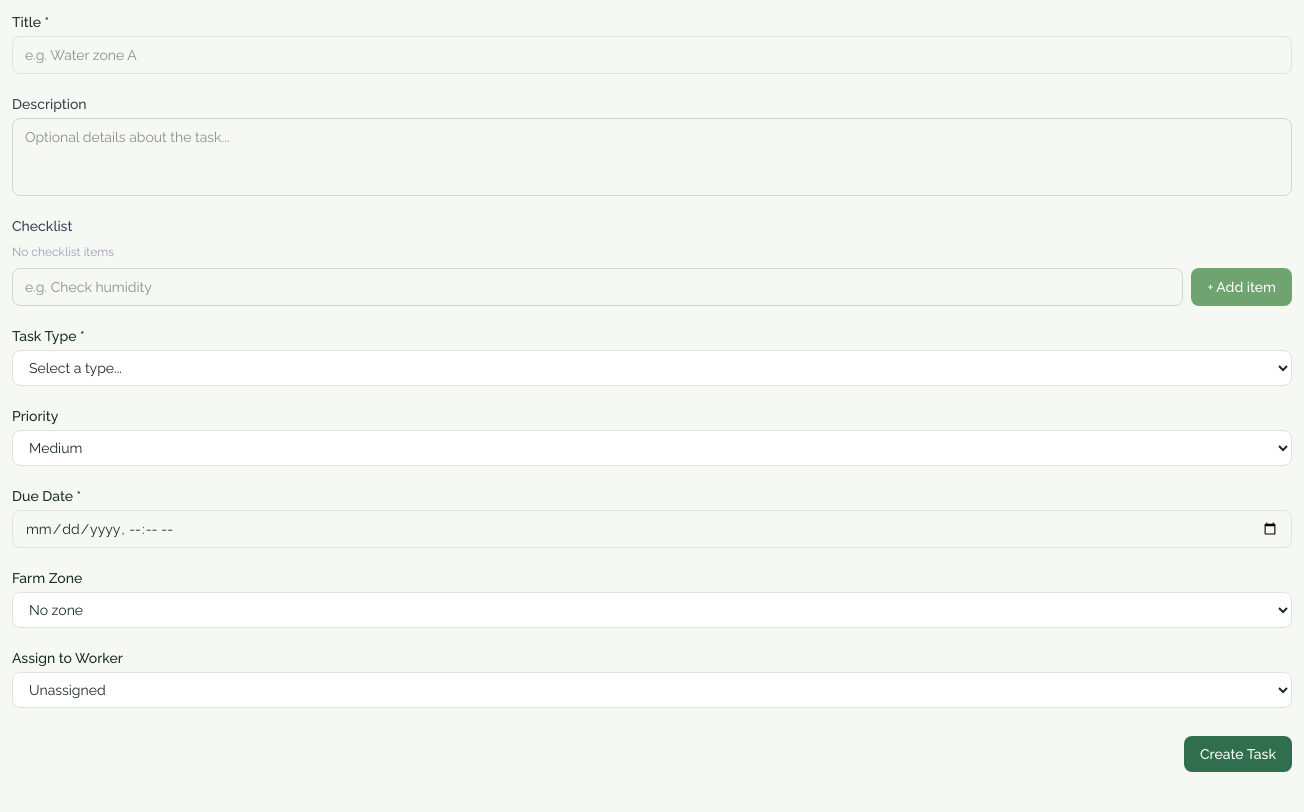
Test: TaskForm – due date (BSPMT7-449) › rejects a due date in the past
The width and height of the screenshot is (1304, 812).
Type "My task" into the field labelled "Title *" at (652, 55), box [12,36,1292,74]
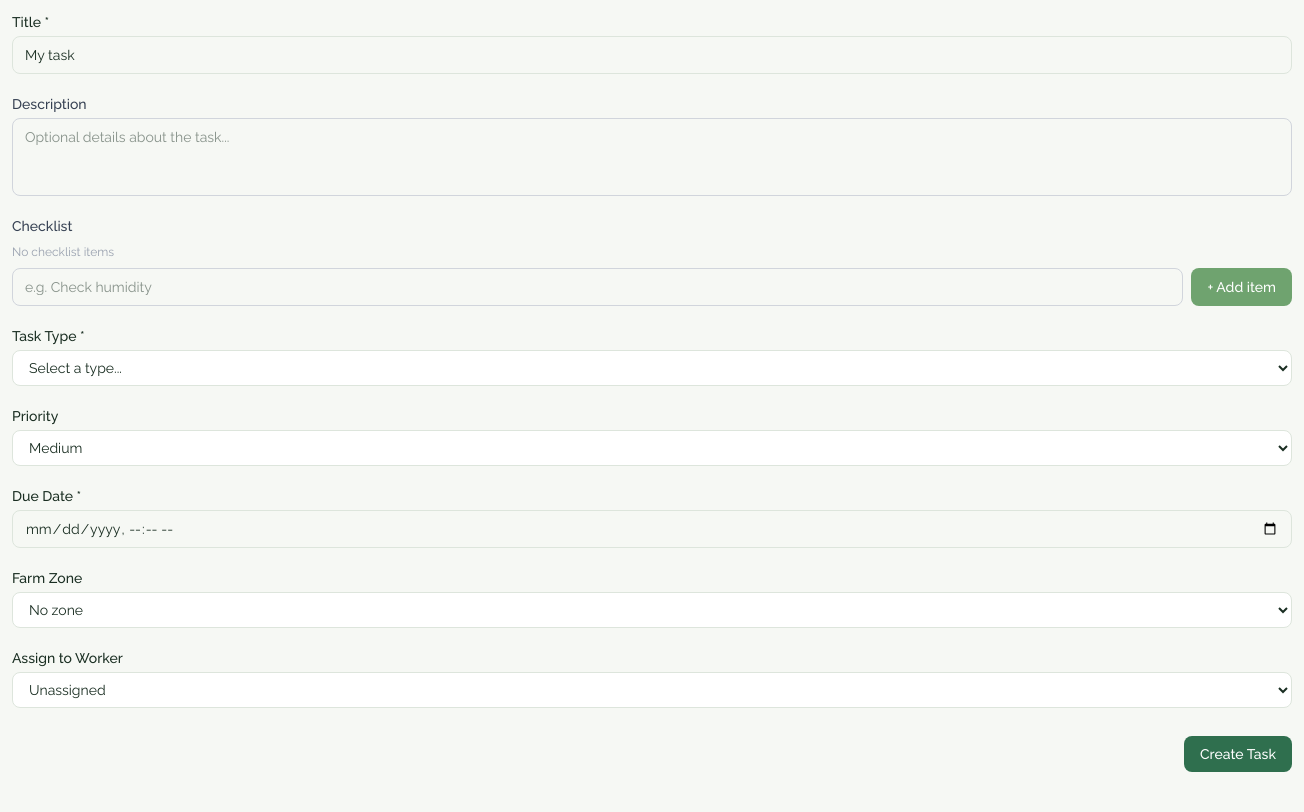
Select "Irrigation" in the dropdown labelled "Task Type *" at (652, 368), box [12,350,1292,386]
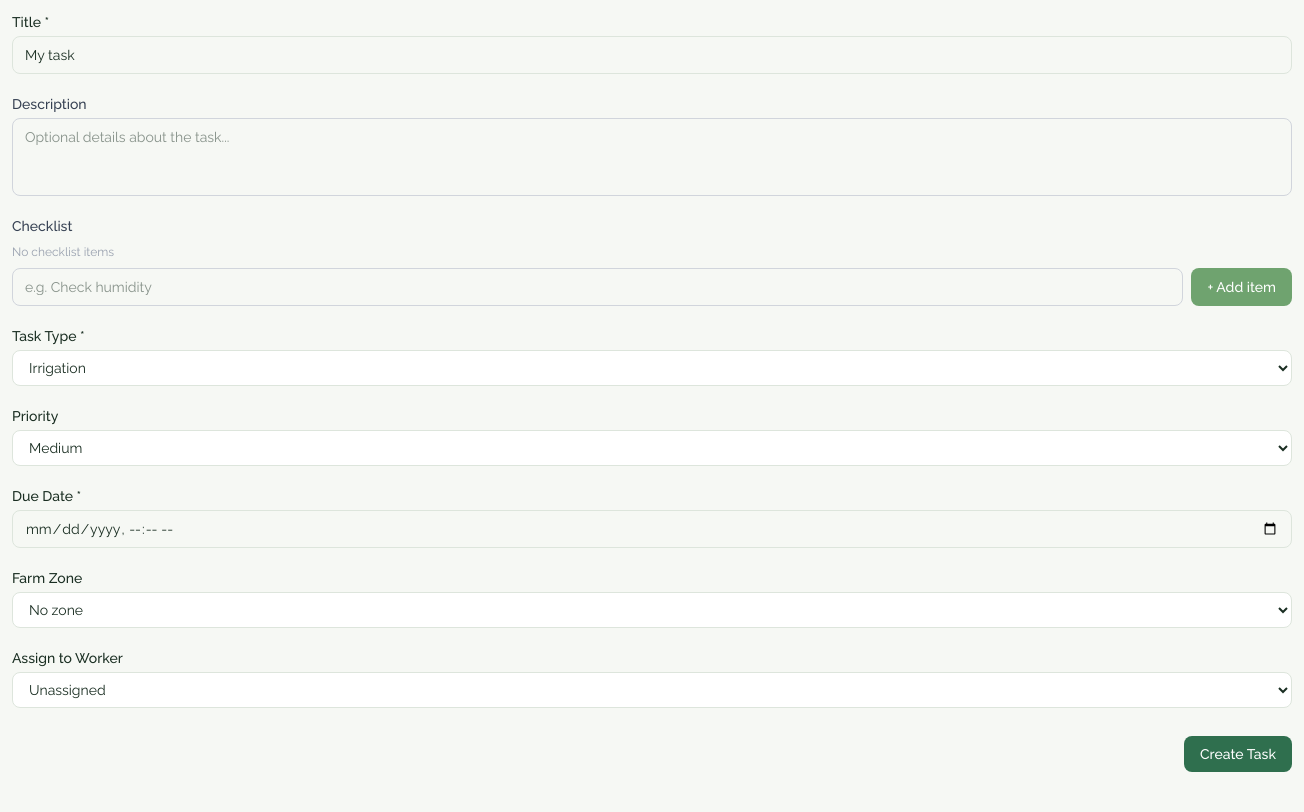
Type "2000-01-01T08:00" into the field labelled "Due Date *" at (652, 529), box [12,510,1292,548]
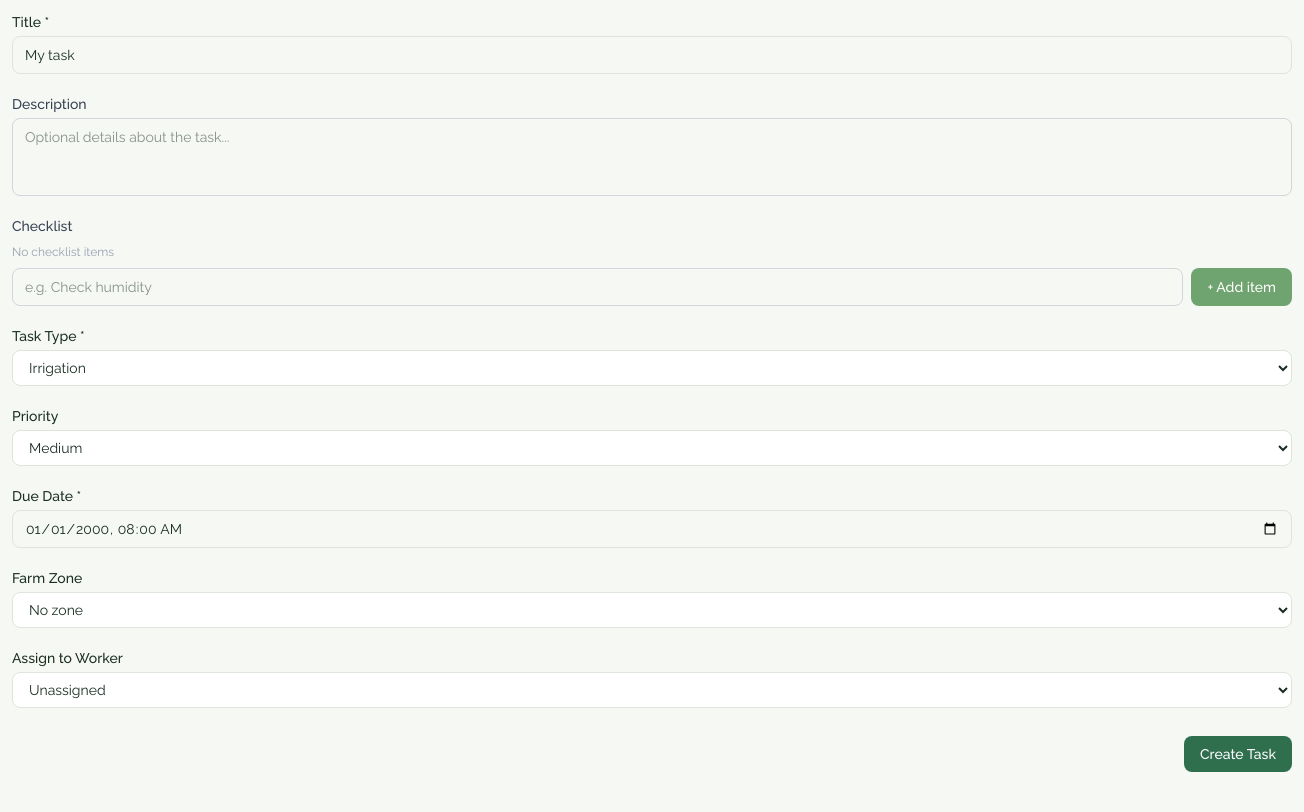
Click the button "Create Task" at (1238, 754), box [1184,736,1292,772]
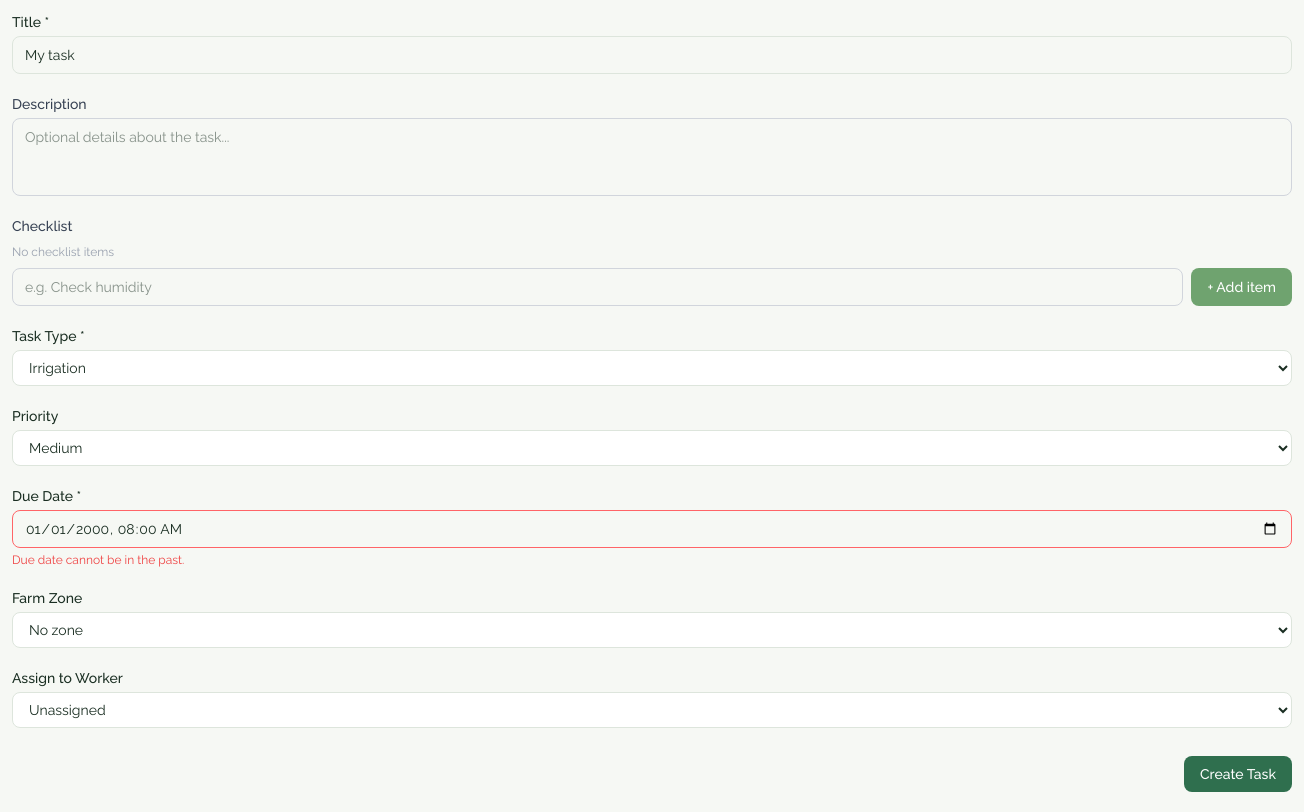
Now the text "Due date cannot be in the past." is shown, box [12,553,184,567]
